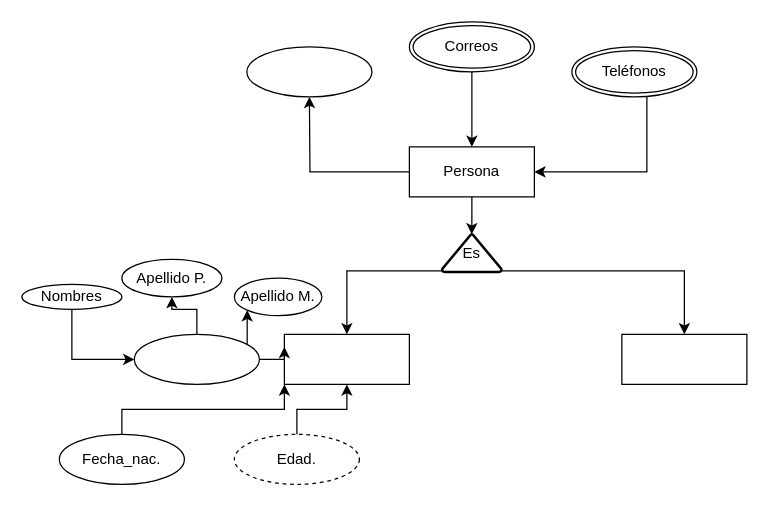
Image size: 769x506. Some labels were removed from this diagram. Each missing label, with the box of its shape:
Jurídica: (621, 333, 747, 384)
Natural: (283, 333, 409, 384)
Nombre: (133, 333, 259, 384)
Rut: (246, 46, 372, 97)
